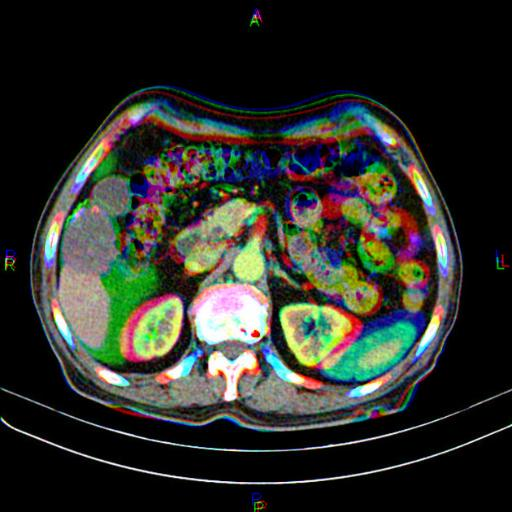Cyst: (61, 177, 129, 274)
